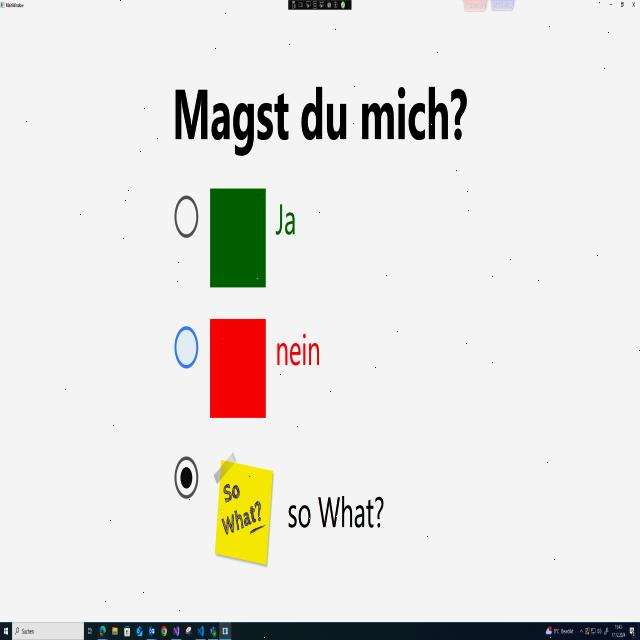button: (627, 0, 640, 18), (615, 0, 626, 18), (605, 0, 615, 18)
input: (13, 623, 83, 640)
label: (284, 476, 384, 539), (274, 325, 329, 376), (272, 193, 309, 246)
radio: (164, 309, 206, 377), (168, 438, 200, 515), (168, 186, 202, 241)
